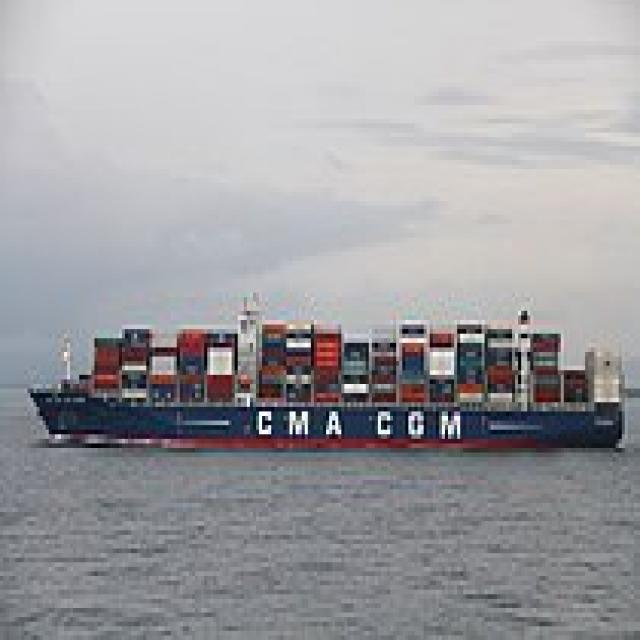Ship: (25, 285, 632, 468)
